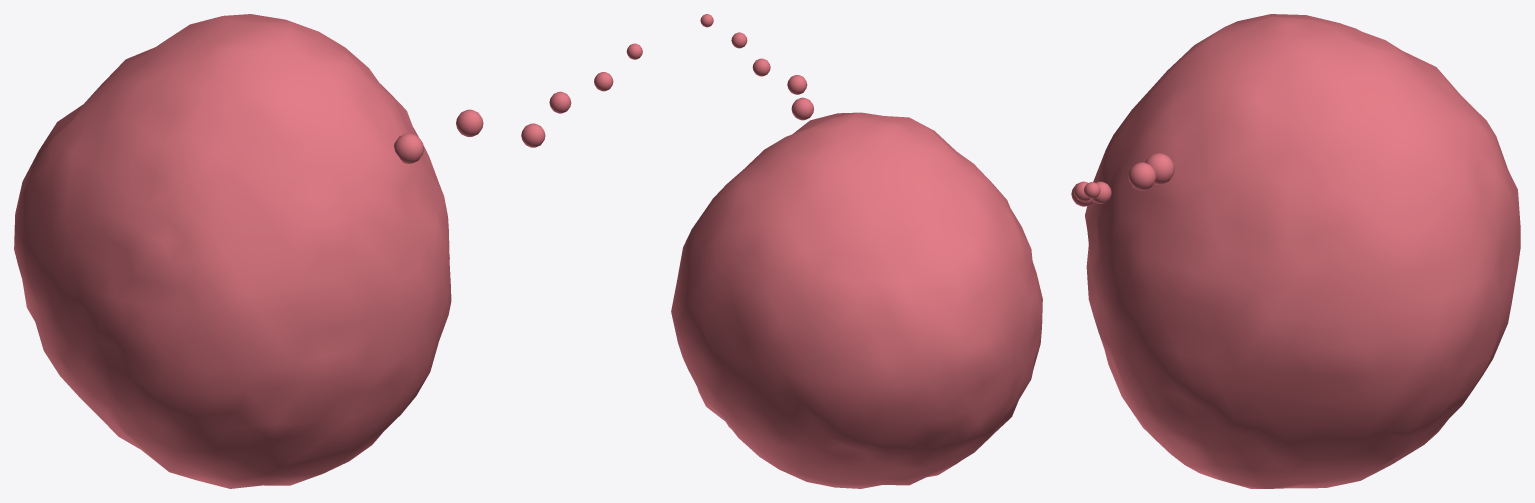
Rendered from yarn_ball.glb.
3 views of the same model, side by side, from view 1: azimuth 30°, elevation 25°; view 2: azimuth 150°, elevation 25°; view 3: azimuth 270°, elevation 25° (orthographic). The views are drawn at different scales.
Parts seen in each view (by area): view 1: Ball, ThreadBead1; view 2: Ball, ThreadBead2; view 3: Ball, ThreadBead2, ThreadBead1.
Boxes of the visible parts, x1,y1,x2,y2 form: Ball: (14,14,451,488); ThreadBead1: (394,133,424,163); Ball: (671,112,1042,488); ThreadBead2: (791,97,813,120); Ball: (1085,14,1520,488); ThreadBead2: (1128,162,1156,190); ThreadBead1: (1145,153,1174,184).
Size of the model in its own units: 0.1381 by 0.1105 by 0.1076.
